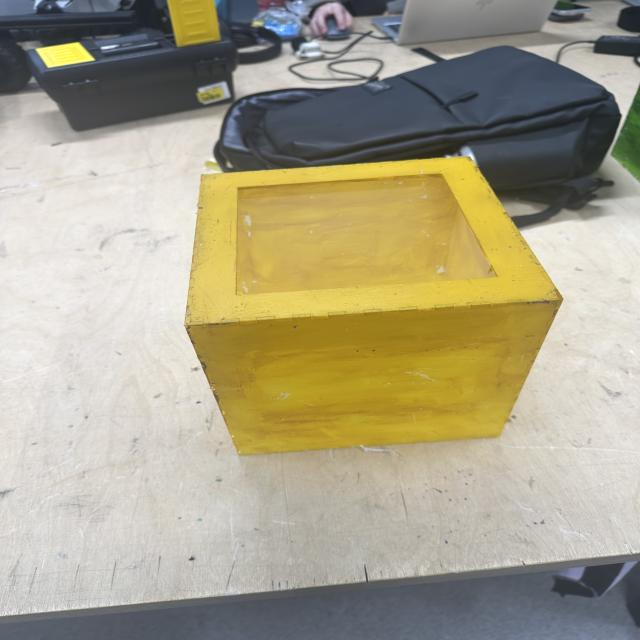yellow_bin: (183, 154, 566, 456)
